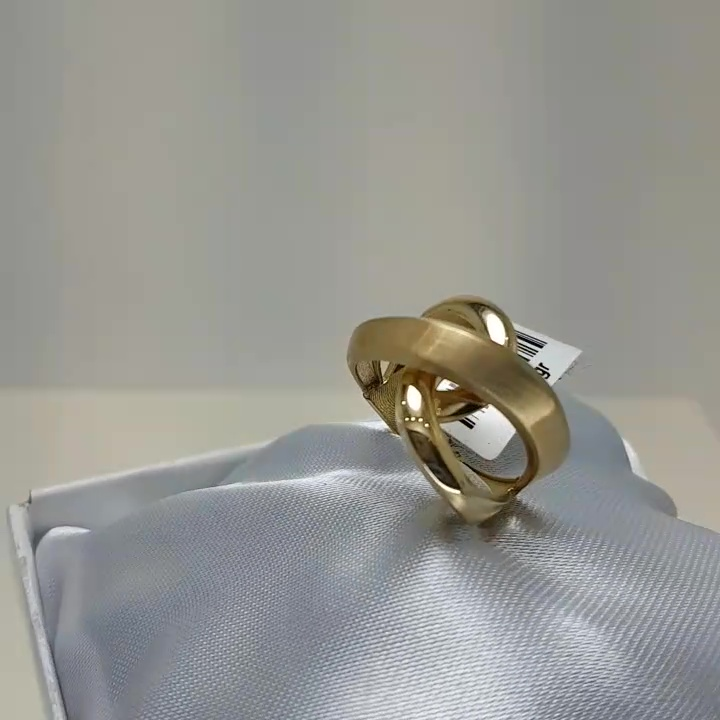Ring 3: (336, 274, 578, 547)
